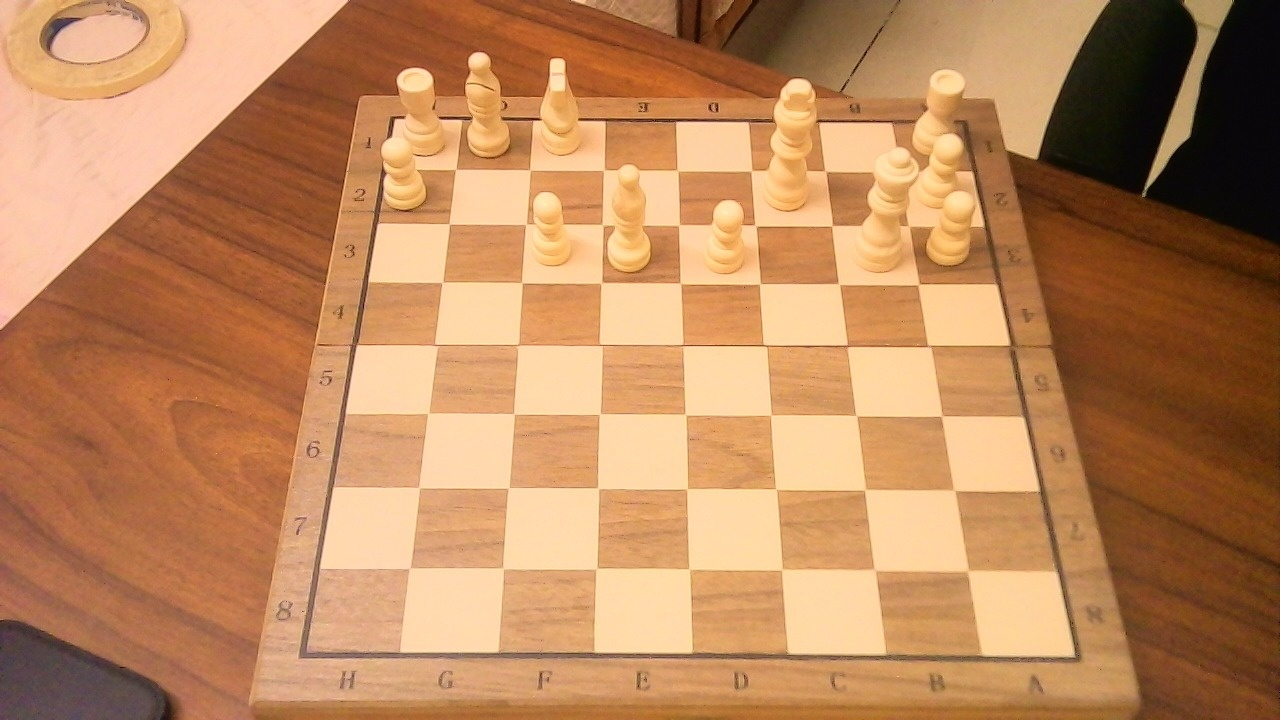B: (459, 41, 519, 161), (604, 153, 662, 276)
K: (758, 66, 826, 215)
N: (531, 47, 590, 160)
P: (920, 125, 985, 269), (694, 189, 753, 279), (525, 182, 578, 272), (377, 128, 433, 212)
Q: (846, 135, 924, 277)
R: (907, 59, 972, 160), (392, 58, 451, 160)
